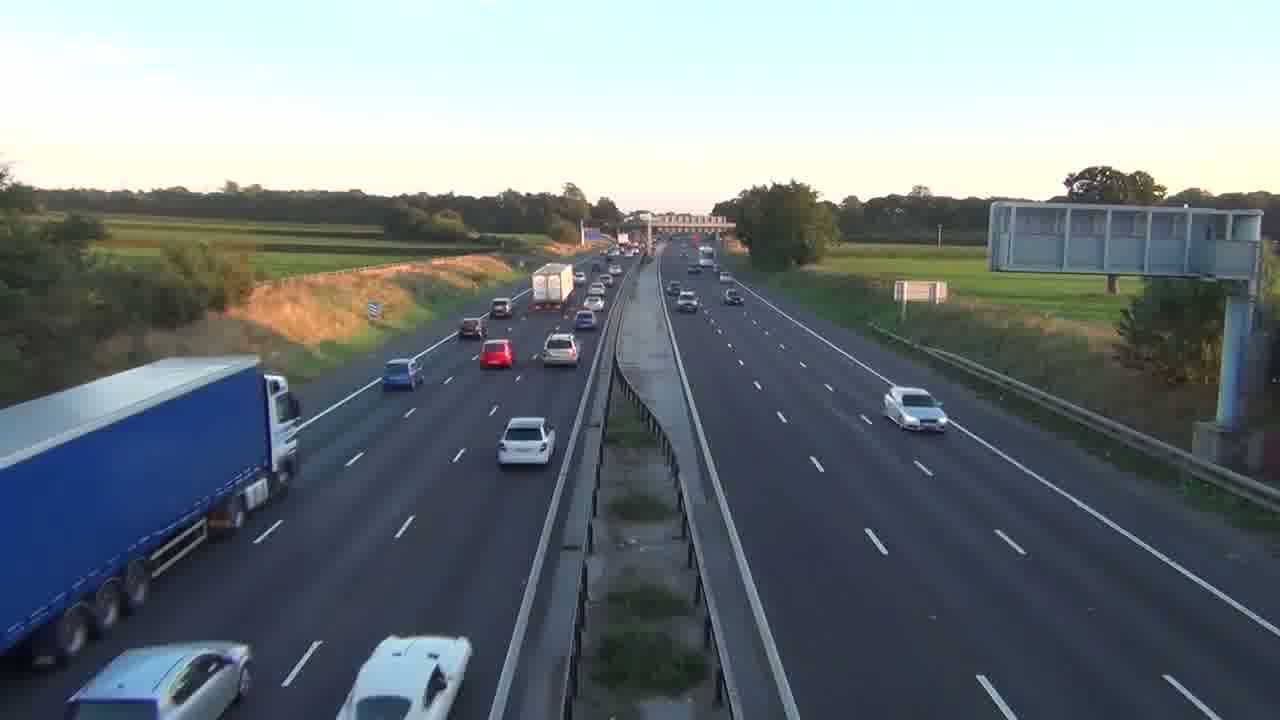car: (64, 639, 254, 718), (335, 633, 473, 719), (496, 415, 557, 468), (882, 385, 948, 433), (382, 355, 423, 391), (542, 331, 580, 368), (478, 338, 515, 370), (574, 309, 597, 330)
truck: (0, 354, 304, 668), (335, 633, 473, 719), (530, 262, 576, 312)
